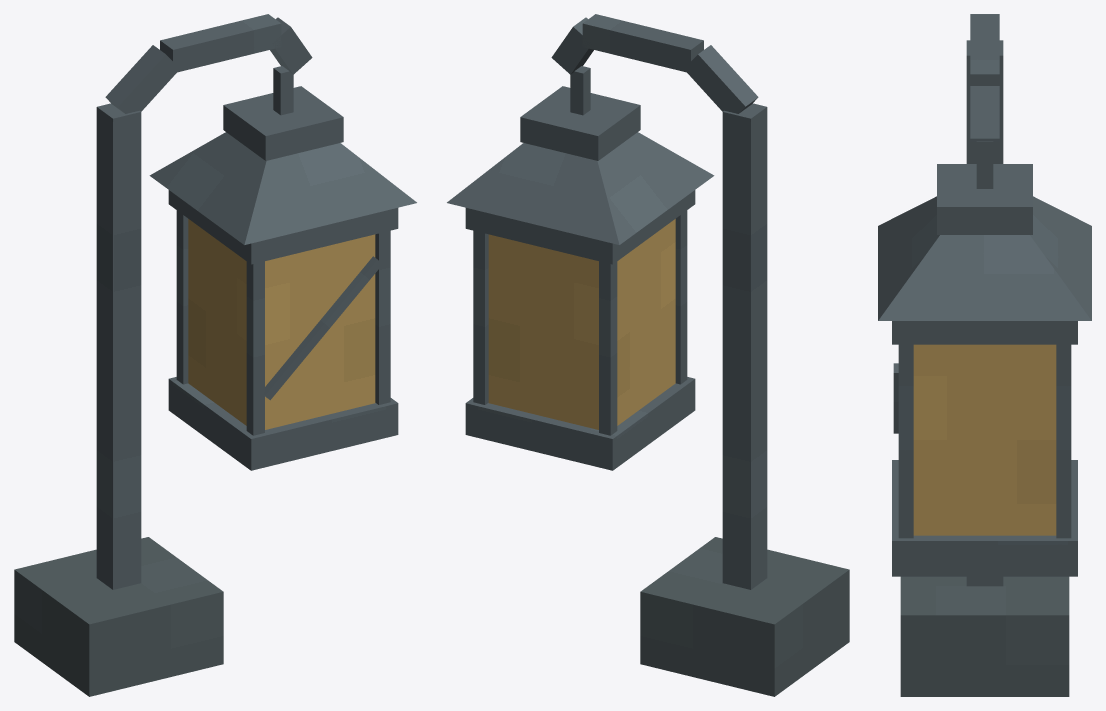
File: lantern.glb
The picture shows the model from 3 angles, left to right: view 1: azimuth 30°, elevation 25°; view 2: azimuth 150°, elevation 25°; view 3: azimuth 270°, elevation 25°; orthographic projection. The views are drawn at different scales.
Parts seen in each view (by area): view 1: stand-stone-foot, iron-upright, window-glass, pitched-iron-cap, window-glass.002, lower-iron-tray, vent-cap, upper-iron-frame, hook-bridge, corner-frame-post, corner-frame-post.002, hook-upper-curve (+4 smaller); view 2: stand-stone-foot, iron-upright, window-glass.001, pitched-iron-cap, window-glass.002, lower-iron-tray, vent-cap, upper-iron-frame, hook-bridge, corner-frame-post.001, corner-frame-post.003, hook-upper-curve (+3 smaller); view 3: window-glass.003, pitched-iron-cap, stand-stone-foot, lower-iron-tray, vent-cap, upper-iron-frame, corner-frame-post.002, corner-frame-post.003, hook-bridge, iron-upright, hook-downturn, lantern-hanger (+1 smaller).
Part boxes in pixels (x1,y1,x2,y2): stand-stone-foot: (14, 537, 223, 696); iron-upright: (96, 103, 141, 589); window-glass: (265, 234, 375, 429); pitched-iron-cap: (149, 132, 416, 244); window-glass.002: (188, 219, 246, 425); lower-iron-tray: (168, 377, 398, 470); vent-cap: (223, 86, 343, 160); upper-iron-frame: (168, 190, 398, 264); hook-bridge: (160, 14, 281, 73); corner-frame-post: (246, 261, 264, 435); corner-frame-post.002: (375, 230, 390, 404); hook-upper-curve: (105, 45, 179, 113); stand-stone-foot: (640, 537, 849, 696); iron-upright: (722, 103, 767, 589); window-glass.001: (488, 234, 598, 429); pitched-iron-cap: (447, 132, 714, 244); window-glass.002: (617, 219, 675, 425); lower-iron-tray: (465, 377, 695, 470); vent-cap: (520, 86, 640, 160); upper-iron-frame: (465, 190, 695, 264); hook-bridge: (582, 14, 703, 72); corner-frame-post.001: (599, 261, 617, 435); corner-frame-post.003: (473, 230, 488, 404); hook-upper-curve: (684, 45, 758, 113); window-glass.003: (913, 344, 1056, 535); pitched-iron-cap: (878, 196, 1091, 320); stand-stone-foot: (900, 576, 1069, 696); lower-iron-tray: (892, 460, 1077, 576); vent-cap: (937, 164, 1032, 234); upper-iron-frame: (892, 321, 1077, 344); corner-frame-post.002: (898, 344, 913, 538); corner-frame-post.003: (1056, 344, 1071, 538); hook-bridge: (970, 15, 999, 85); iron-upright: (966, 40, 1003, 586); hook-downturn: (970, 86, 999, 141); lantern-hanger: (976, 141, 993, 188).
Bounding box in the file's own units: 0.735 × 1.32 × 0.38.
Materials: 1 (1 with a texture image).
